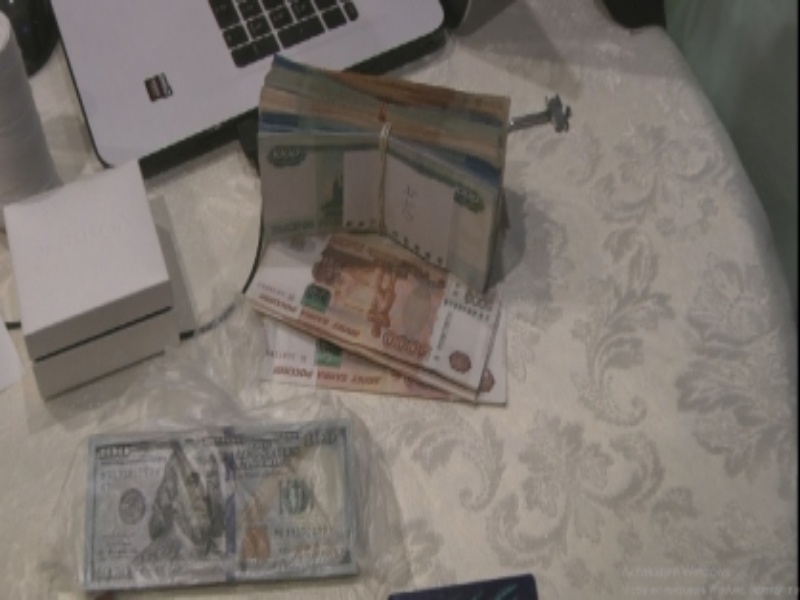cash: (256, 53, 511, 293), (81, 422, 359, 587), (245, 232, 502, 406)
